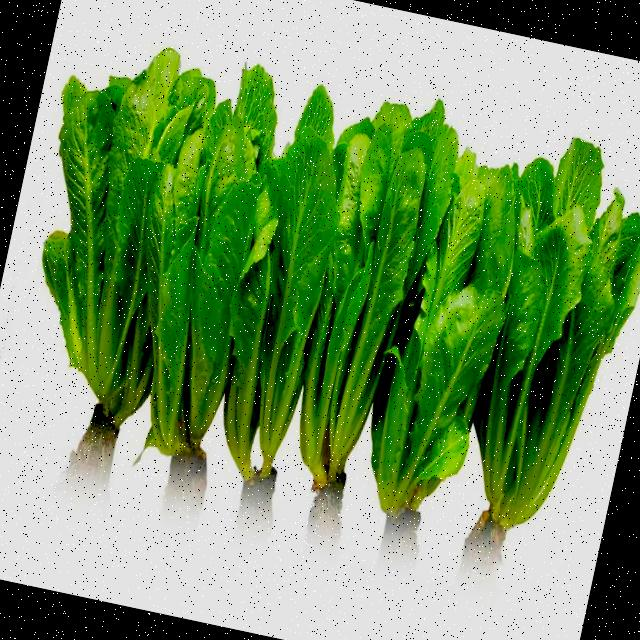healthy: (467, 165, 640, 520), (136, 53, 284, 460), (292, 82, 439, 484), (364, 156, 524, 523), (210, 91, 356, 484), (58, 48, 208, 384)
